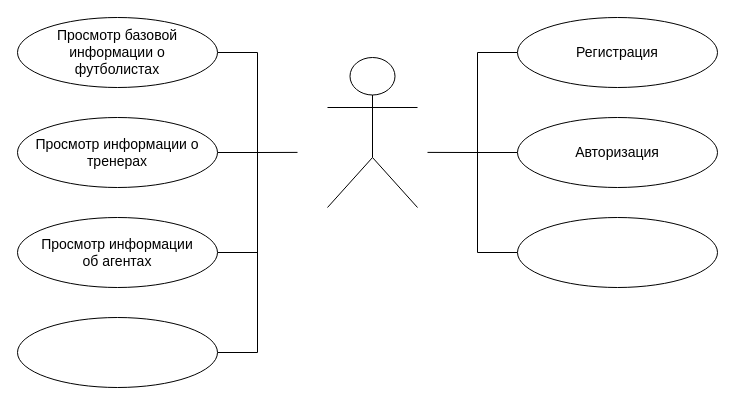
Some shapes in this 735 by 405 pixel diagram are drawn without their labels. The shapes that lost their labels are listed below. From the top down, each one's box as (x1, y1, x2, y2) in pixels, then its label:
(326, 56, 418, 208): Гость
(516, 216, 718, 288): Поиск футболистов, тренеров, клубов по параметрам
(16, 316, 218, 388): Просмотр базовой информации о клубах
